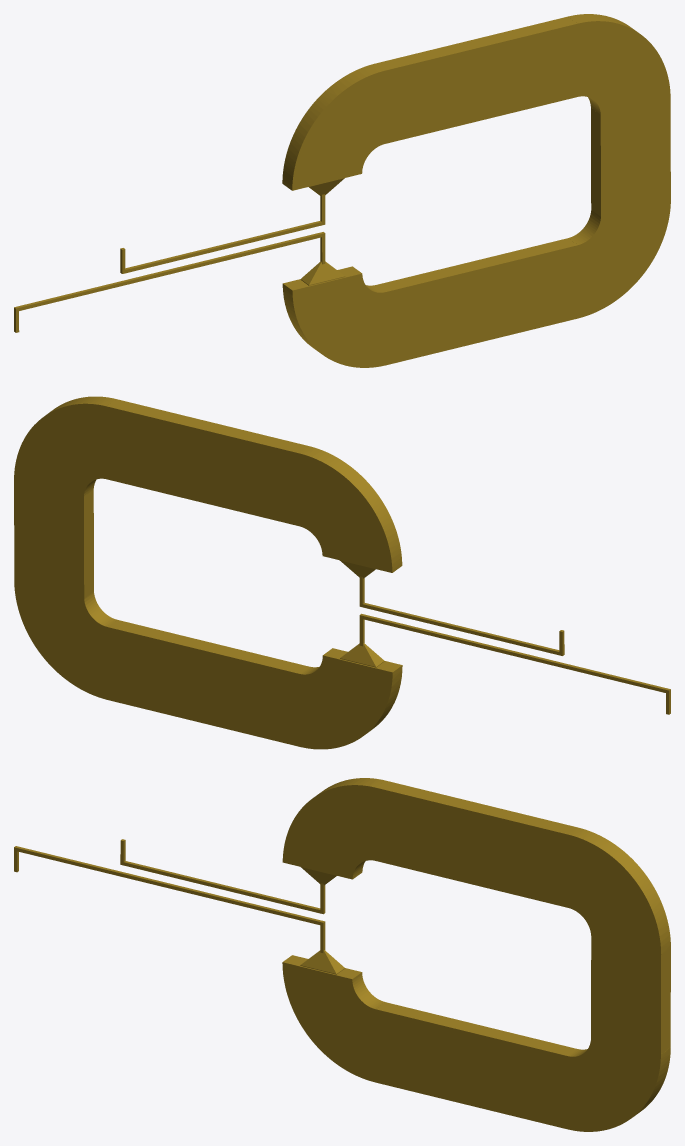
File: Coil only AC.gltf
The picture shows the model from 3 angles, top to bottom: view 1: azimuth 30°, elevation 25°; view 2: azimuth 150°, elevation 25°; view 3: azimuth 330°, elevation 25°; orthographic projection.
Visible parts, largest first — view 1: Cube.011, Cube.014, Cube.015, Cube.009, Cube.012, Cube.013, Cube.010, Cube.021, Cube.020, Cube.017; view 2: Cube.014, Cube.011, Cube.015, Cube.009, Cube.012, Cube.010, Cube.013, Cube.021, Cube.020, Cube.017; view 3: Cube.011, Cube.014, Cube.013, Cube.009, Cube.012, Cube.015, Cube.010, Cube.021, Cube.020, Cube.017.
Boxes of the visible parts, x1,y1,x2,y2 form: Cube.011: (376,238,578,365); Cube.014: (375,16,578,143); Cube.015: (282,63,384,190); Cube.009: (591,97,670,216); Cube.012: (282,266,385,367); Cube.013: (568,14,670,114); Cube.010: (568,200,670,318); Cube.021: (14,232,325,311); Cube.020: (122,221,325,273); Cube.017: (300,261,345,285); Cube.014: (106,399,308,525); Cube.011: (106,619,308,746); Cube.015: (299,446,402,572); Cube.009: (14,480,93,598); Cube.012: (299,648,402,749); Cube.010: (14,580,116,699); Cube.013: (14,396,116,497); Cube.021: (359,613,670,693); Cube.020: (359,603,562,655); Cube.017: (340,643,384,667); Cube.011: (374,1002,576,1129); Cube.014: (374,780,577,907); Cube.013: (568,827,670,954); Cube.009: (591,938,670,1055); Cube.012: (282,955,384,1081); Cube.015: (282,778,385,879); Cube.010: (567,1039,670,1131); Cube.021: (14,846,325,925); Cube.020: (120,861,325,914); Cube.017: (300,950,344,974).
Bounding box in the file's own units: 8.36 × 3.61 × 0.2364.
